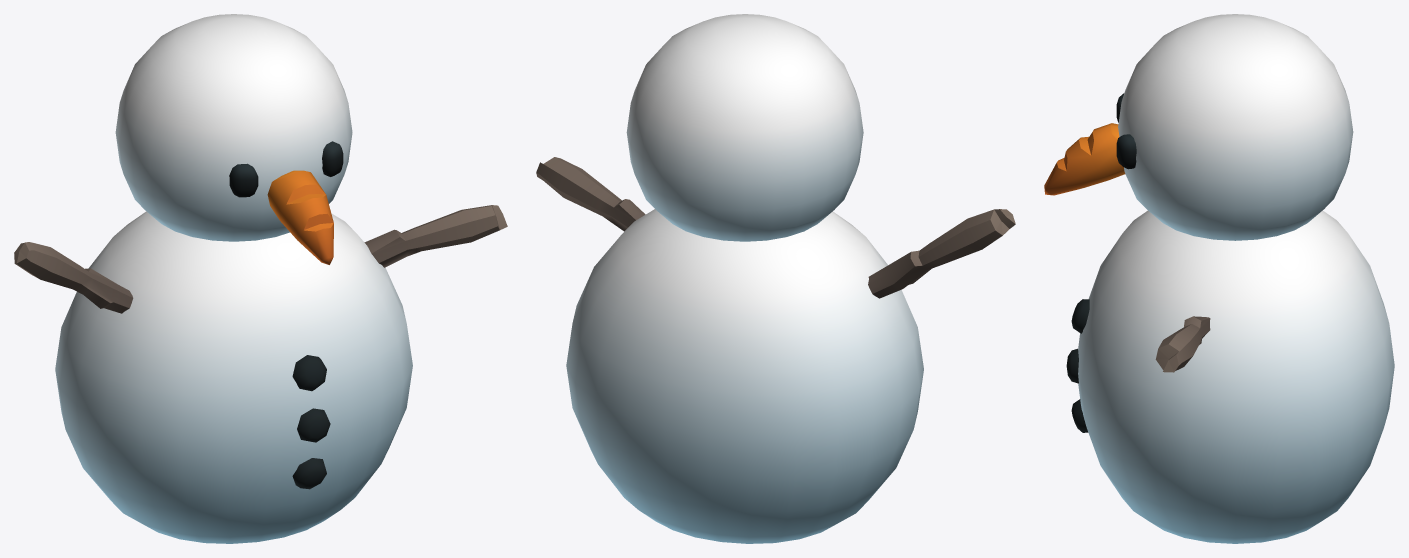
Rendered from snowman_A.fbx.
3 views of the same model, side by side, from view 1: azimuth 30°, elevation 25°; view 2: azimuth 150°, elevation 25°; view 3: azimuth 270°, elevation 25° (orthographic).
Visible parts, largest first — view 1: snowman_A; view 2: snowman_A; view 3: snowman_A.
Part boxes in pixels (x1=…): snowman_A: x1=14, y1=14, x2=507, y2=543; snowman_A: x1=536, y1=14, x2=1015, y2=543; snowman_A: x1=1044, y1=14, x2=1394, y2=543.
Bounding box in the file's own units: 2.17 × 2.05 × 1.37.
